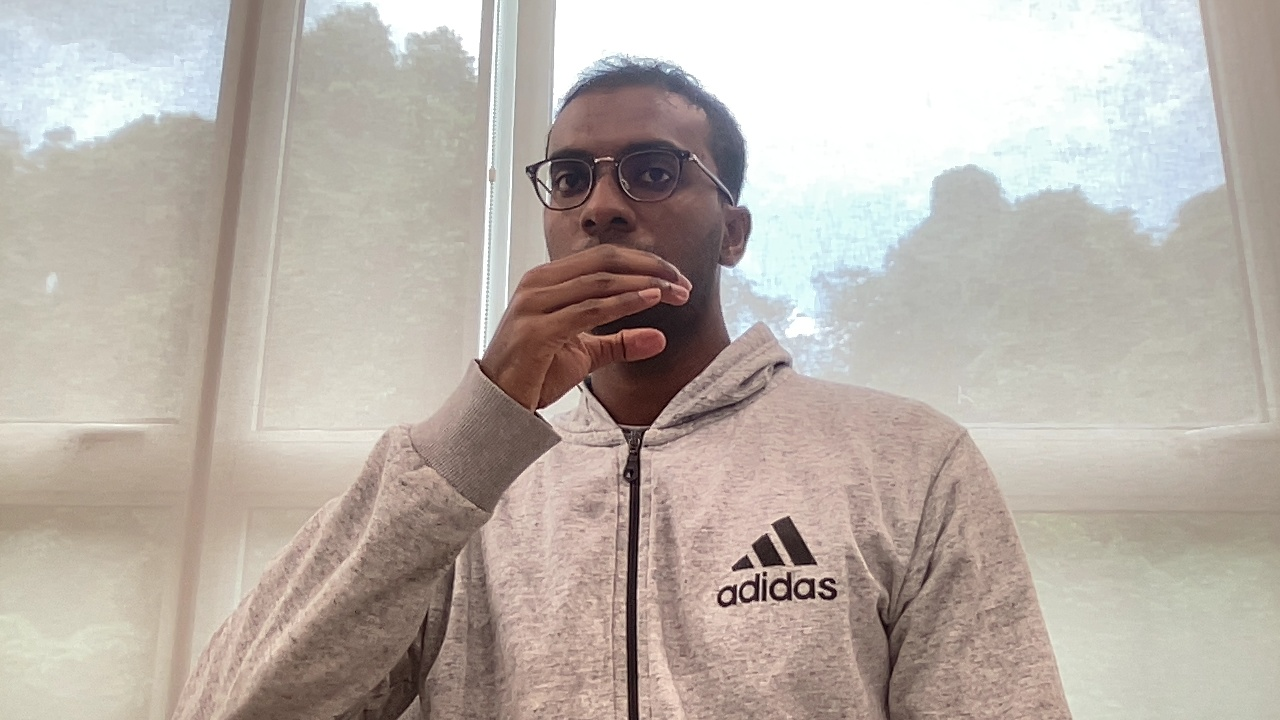drink: (494, 239, 696, 400)
